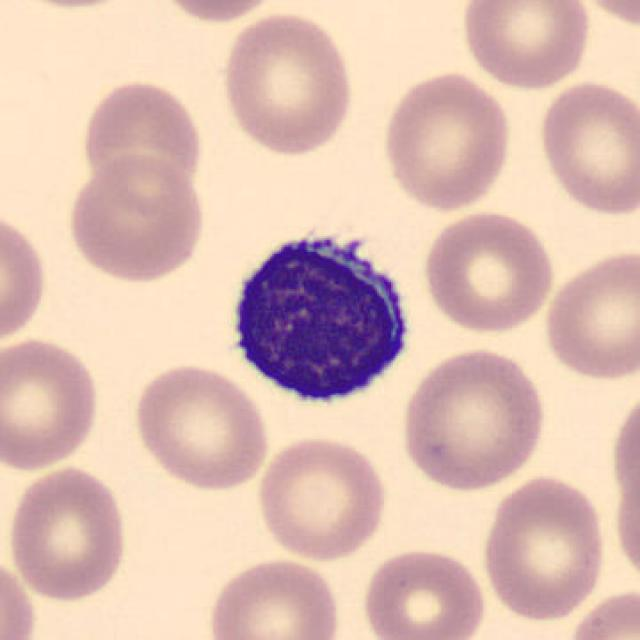Lymphocyte: (215, 215, 423, 414)
RBC: (398, 344, 550, 494), (217, 8, 357, 158), (478, 471, 610, 624), (377, 69, 514, 213), (128, 358, 272, 494), (64, 150, 208, 284), (3, 462, 132, 605), (253, 432, 391, 562), (420, 206, 558, 335), (78, 76, 208, 201), (534, 75, 638, 218), (0, 333, 103, 474), (539, 245, 638, 383), (457, 0, 594, 92), (203, 553, 345, 640), (359, 545, 489, 640), (604, 382, 640, 590), (0, 206, 50, 349), (562, 583, 640, 640), (147, 0, 289, 26), (0, 553, 39, 640), (576, 0, 640, 35), (0, 0, 144, 12)
